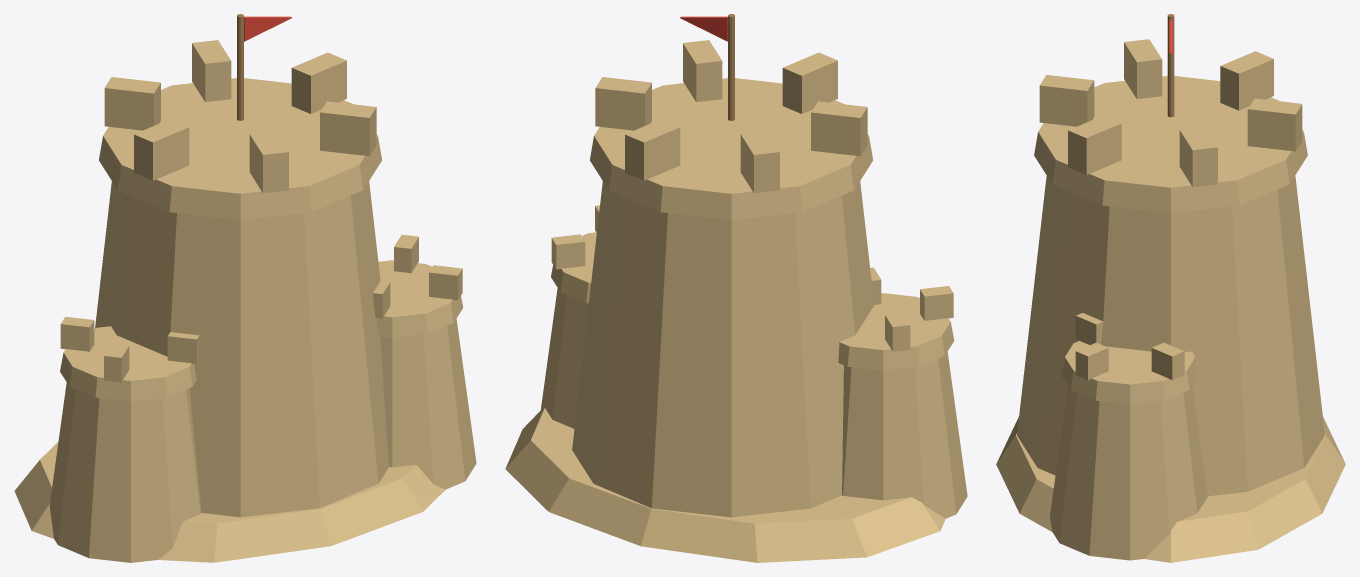
The model's file is sandcastle.glb.
The picture shows the model from 3 angles, left to right: view 1: azimuth 30°, elevation 25°; view 2: azimuth 150°, elevation 25°; view 3: azimuth 270°, elevation 25°; orthographic projection. The views are drawn at different scales.
Visible parts, largest first — view 1: sandcastle; view 2: sandcastle; view 3: sandcastle.
Boxes of the visible parts, left/top/right/bottom form: sandcastle: left=14, top=14, right=476, bottom=562; sandcastle: left=505, top=14, right=967, bottom=562; sandcastle: left=996, top=14, right=1345, bottom=562.
Size of the model in its own units: 8 by 8.5 by 6.
